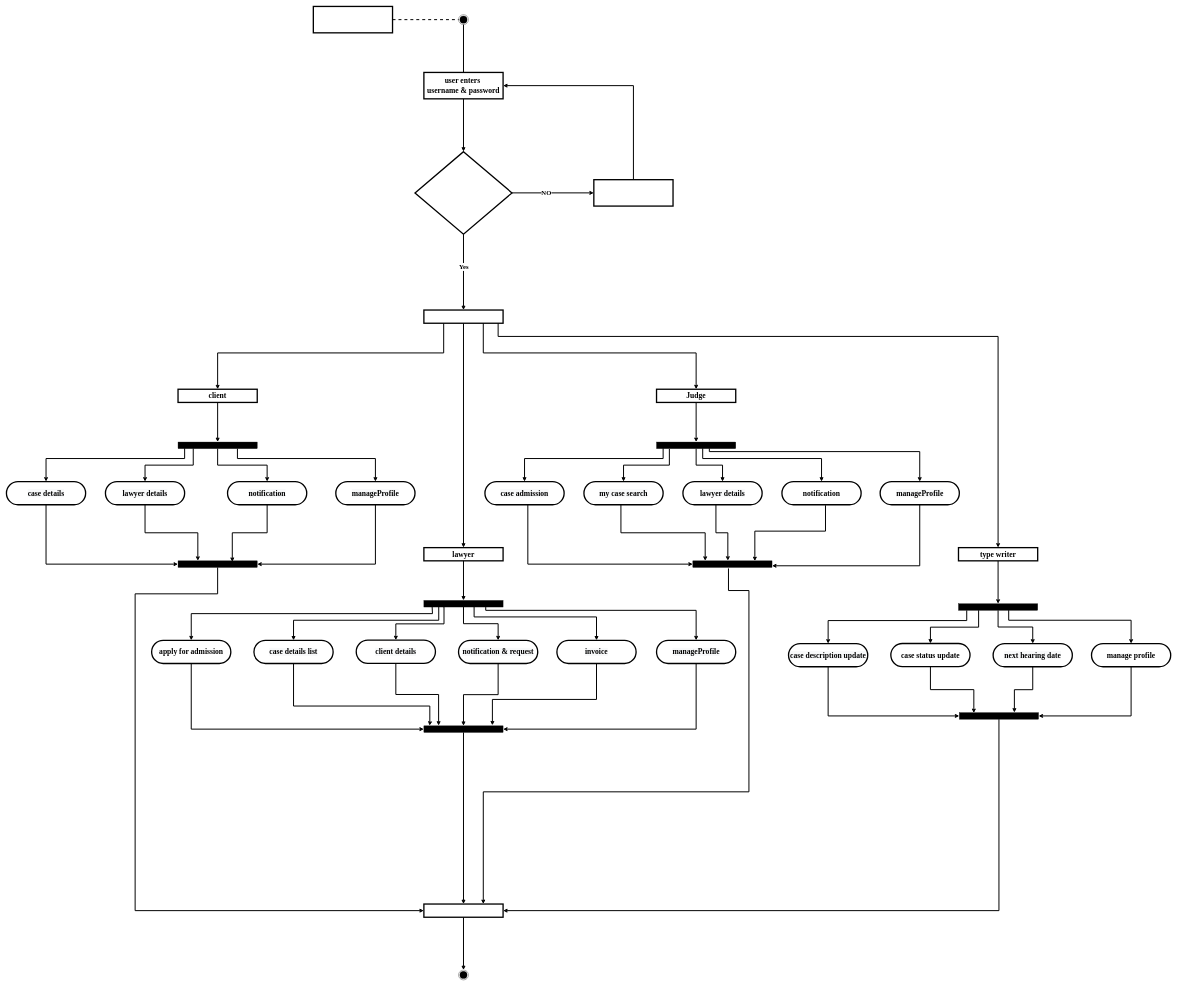
The diagram is 1177 pixels wide and 986 high, and some of its shapes have lost their labels. Each missing label, with the centre of its shape:
invalid username & password: the point at 633,193
user is registered: the point at 353,19
username & password are correct ?: the point at 463,193
